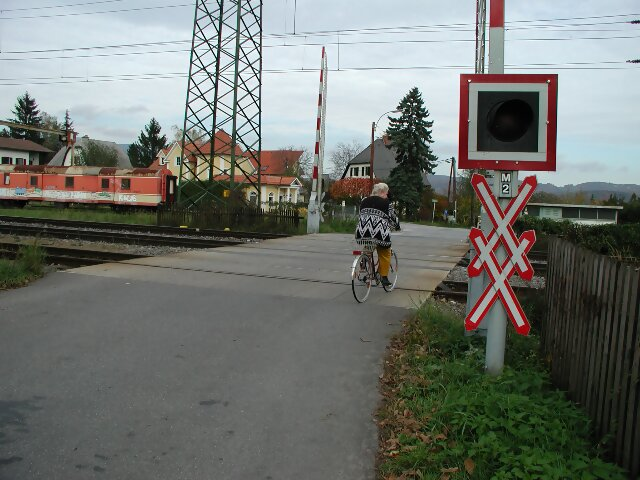person: (353, 179, 404, 290)
